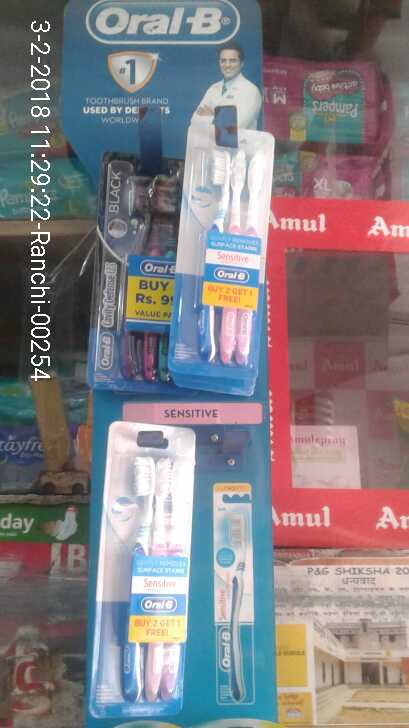pharmacy: (104, 426, 199, 712), (98, 169, 185, 385), (192, 142, 269, 373), (266, 53, 377, 152)
